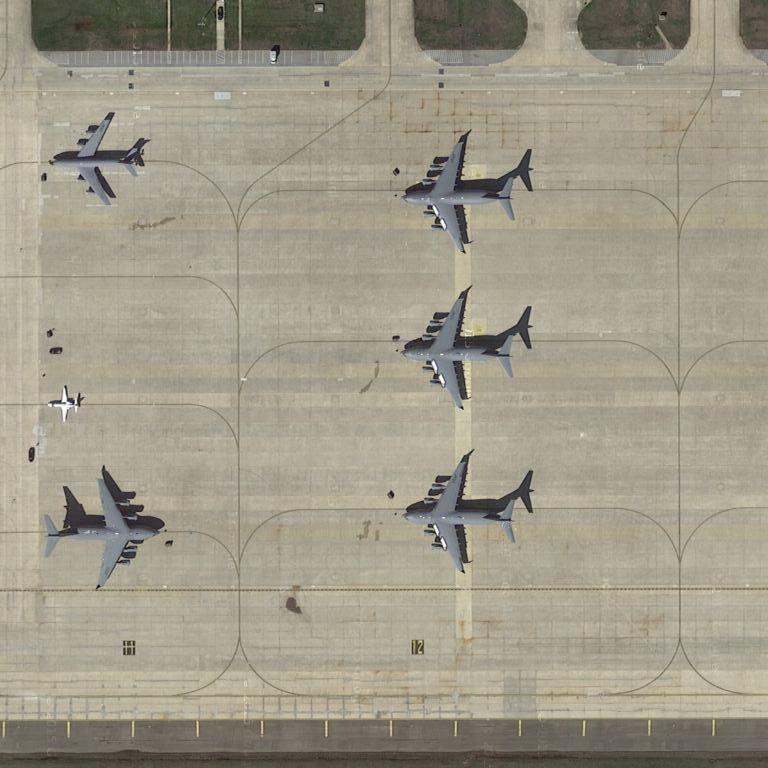C-17: (36, 470, 167, 596), (394, 132, 522, 258), (398, 286, 520, 418), (400, 454, 525, 580)
KC-135: (47, 114, 146, 209)
